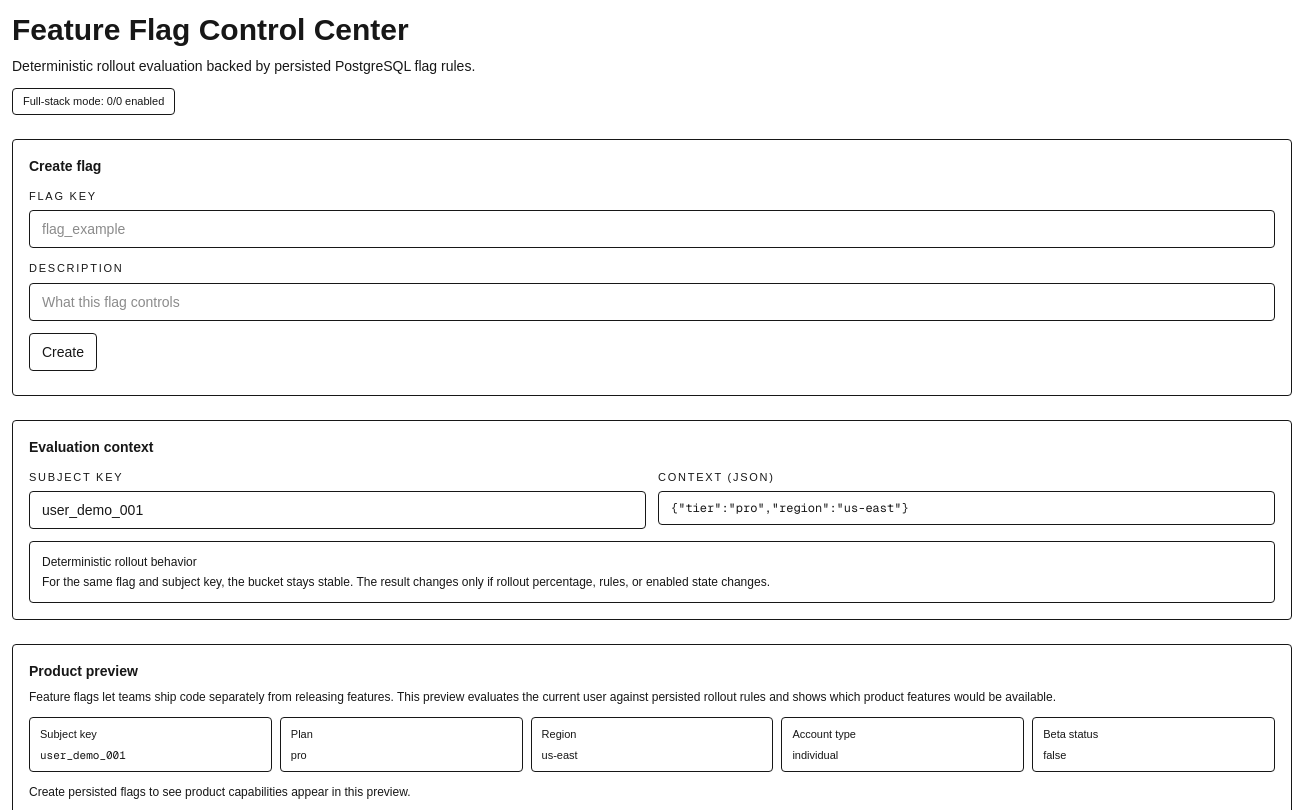
Scenario: FlagsControlCenter › shows a generic banner for server failures without leaking internals
Type "server_failure" into the field labelled "Flag key" at {"x": 652, "y": 229}, box 29,210 -> 1275,248
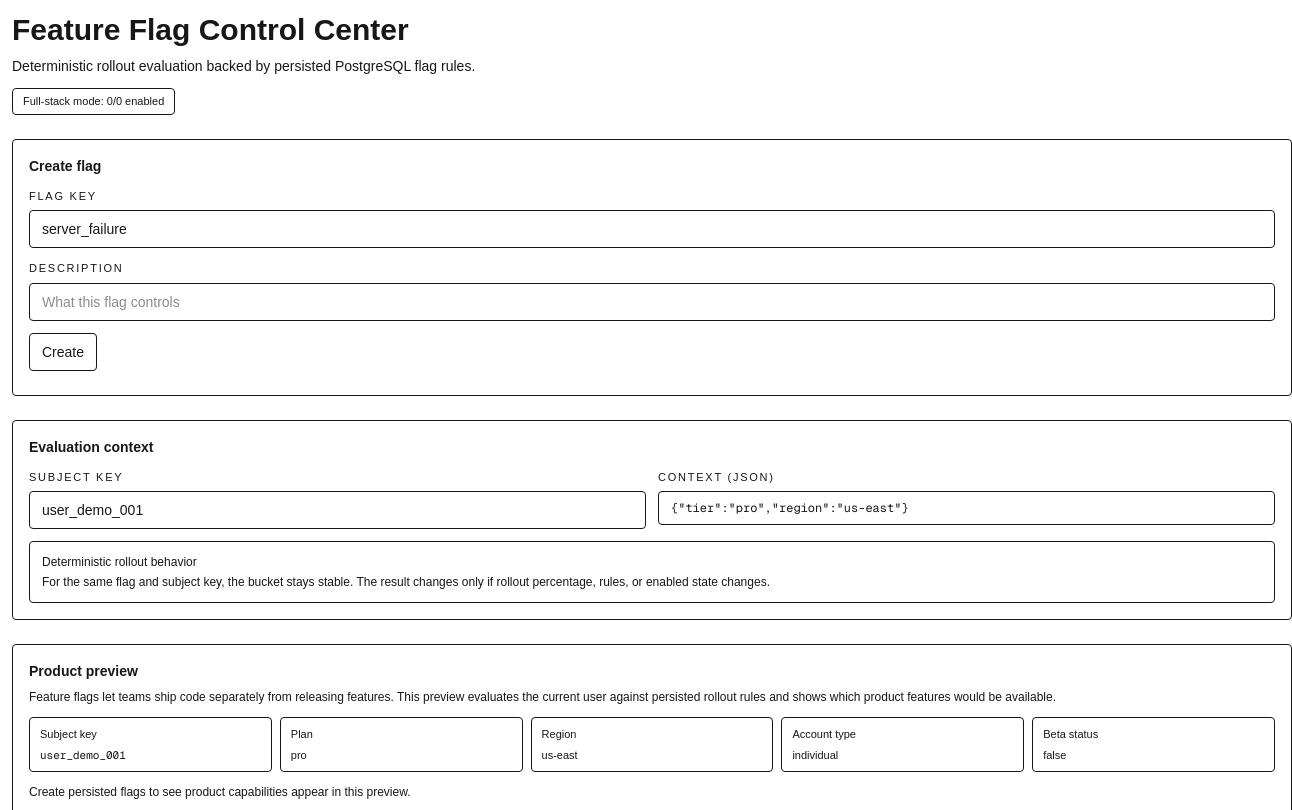
Click the button "Create" at {"x": 63, "y": 352}, box 29,332 -> 97,370
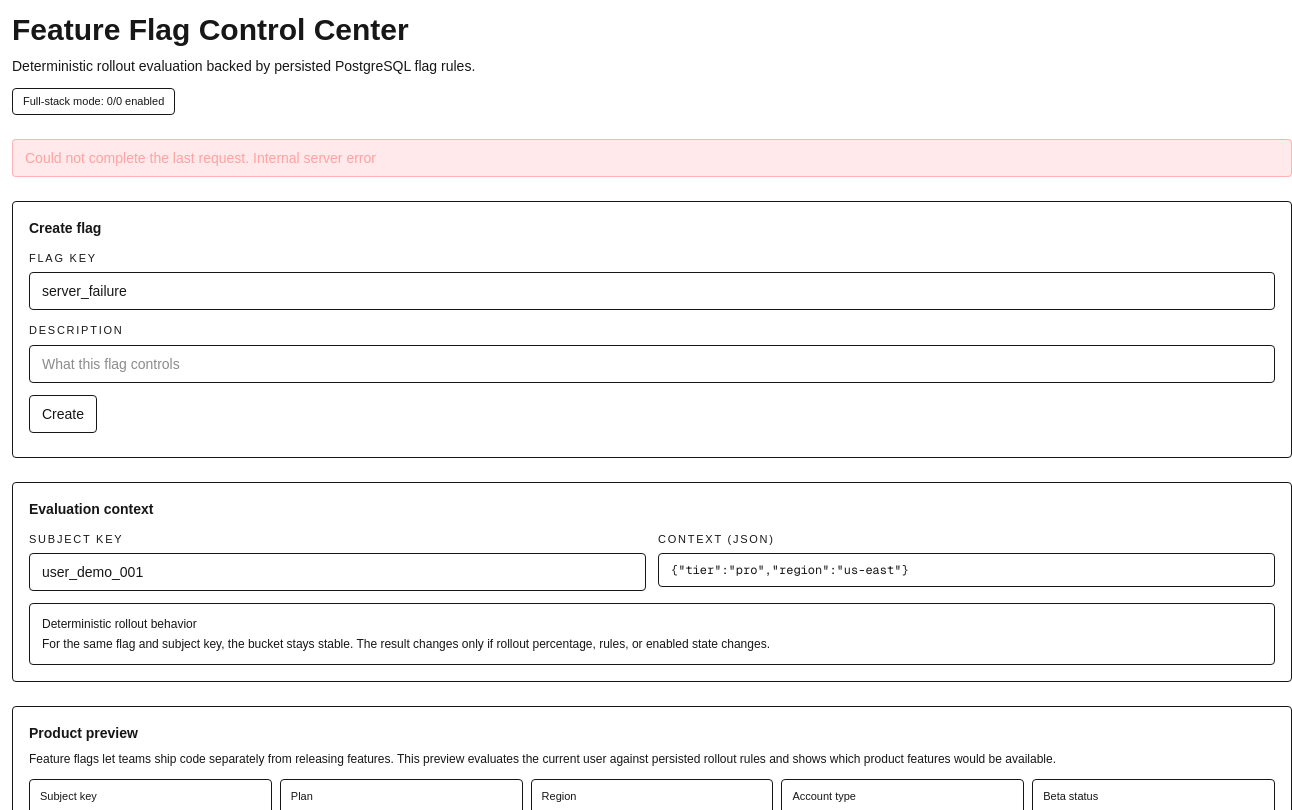
Expected: the text "Could not complete the last request. Internal server error" is shown, 12,138 -> 1291,176
